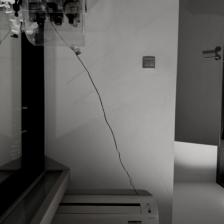Medium: (78, 60, 138, 187)
